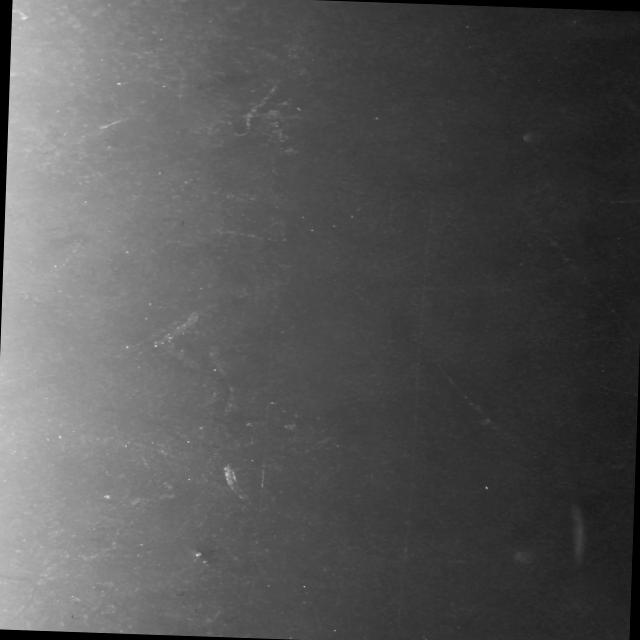beta: (505, 188, 640, 345), (429, 354, 522, 452), (229, 76, 277, 140), (41, 225, 91, 279), (200, 226, 288, 244), (614, 86, 640, 135), (592, 384, 638, 402), (10, 4, 29, 44), (173, 71, 186, 117), (94, 115, 128, 130), (599, 194, 640, 206)
